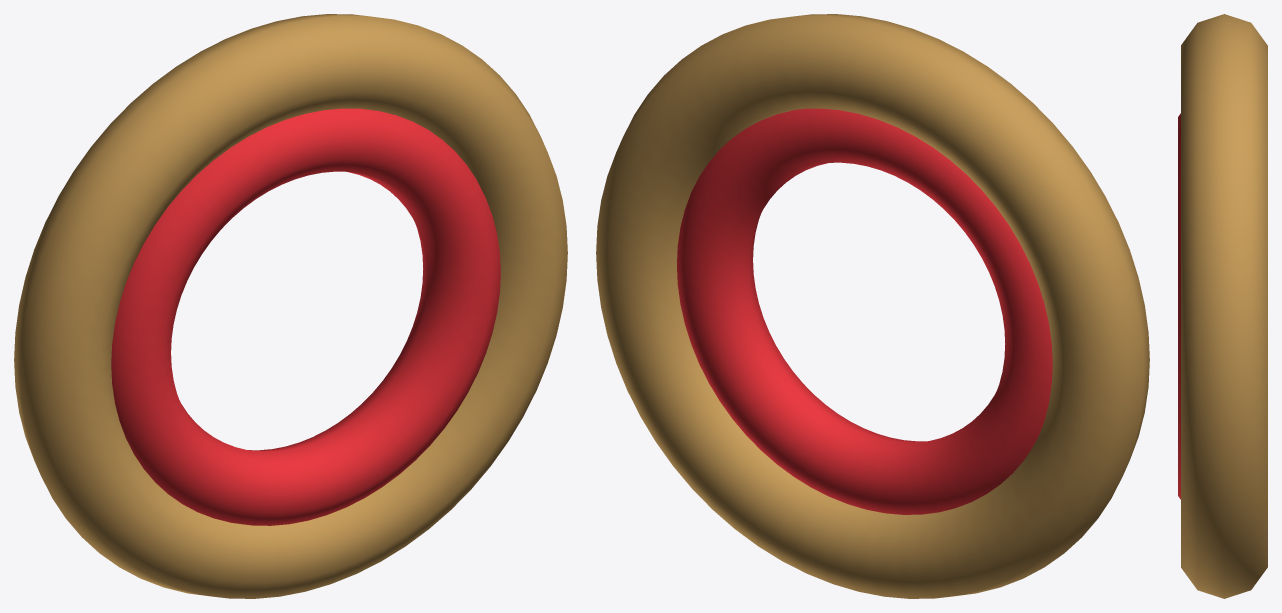
The model's file is comet_wall_collar.glb.
The picture shows the model from 3 angles, left to right: view 1: azimuth 30°, elevation 25°; view 2: azimuth 150°, elevation 25°; view 3: azimuth 270°, elevation 25°; orthographic projection. The views are drawn at different scales.
Visible parts, largest first — view 1: collar_outer_bezel, collar_team_insert; view 2: collar_outer_bezel, collar_team_insert; view 3: collar_outer_bezel, collar_team_insert.
Boxes of the visible parts, box(x1,y1,x2,y2) form: collar_outer_bezel: box(14, 14, 567, 598); collar_team_insert: box(111, 108, 500, 525); collar_outer_bezel: box(596, 14, 1149, 598); collar_team_insert: box(677, 108, 1052, 514); collar_outer_bezel: box(1181, 14, 1267, 598); collar_team_insert: box(1178, 113, 1180, 499).
Size of the model in its own units: 2.56 by 2.56 by 0.3924.
